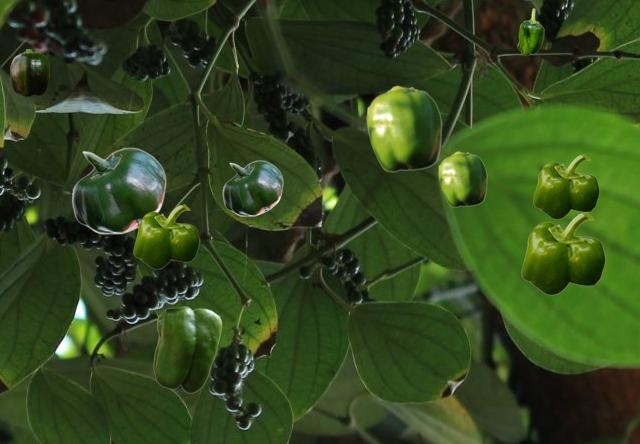bell_pepper: (71, 147, 165, 233), (521, 212, 604, 294), (366, 85, 441, 171), (153, 306, 221, 392), (133, 204, 198, 268), (533, 154, 598, 218), (222, 160, 282, 215), (438, 151, 486, 206), (10, 49, 48, 95), (517, 8, 543, 54)
